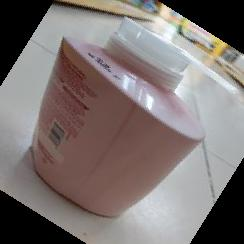sunsilk pink: (26, 16, 240, 222)
